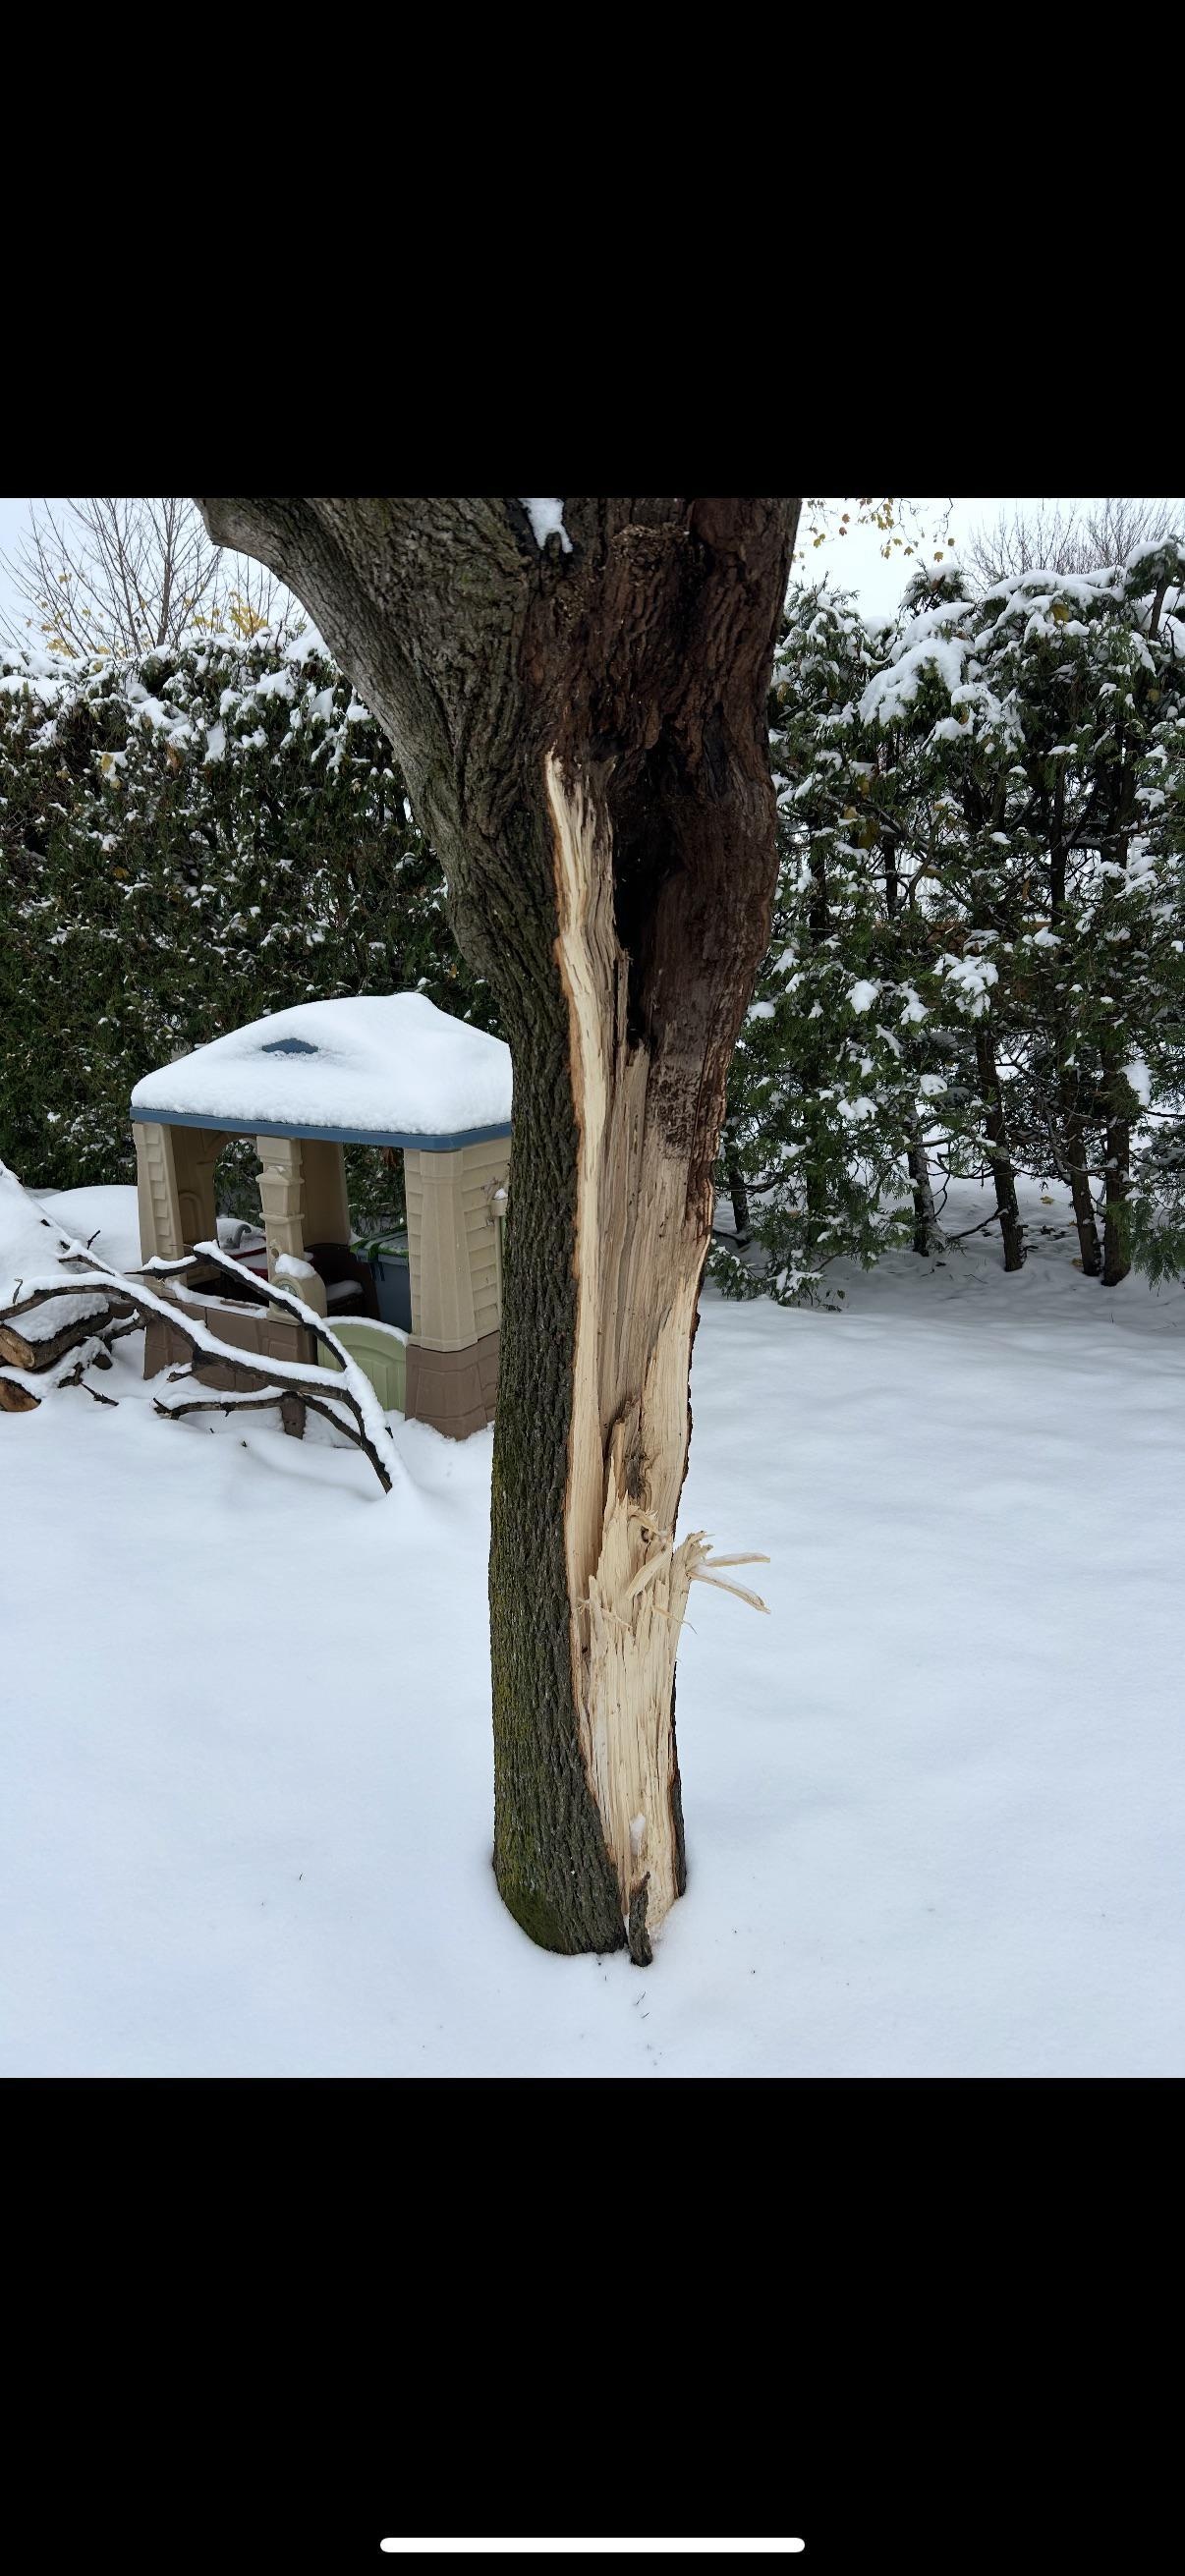mechanical damage: (551, 752, 697, 1939)
